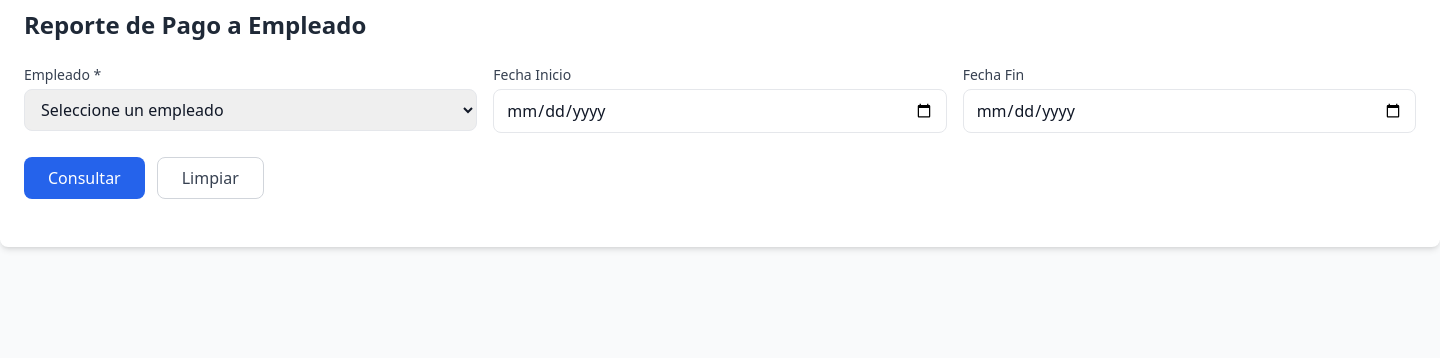
PagoEmpleadoReport › muestra error si no se selecciona empleado al consultar
# Hacer clic en consultar sin seleccionar empleado
What coordinates should you click on to do the following:
click the button "Consultar"
I would click on:
 (84, 178)
Its box is x1=24 y1=157 x2=145 y2=199.
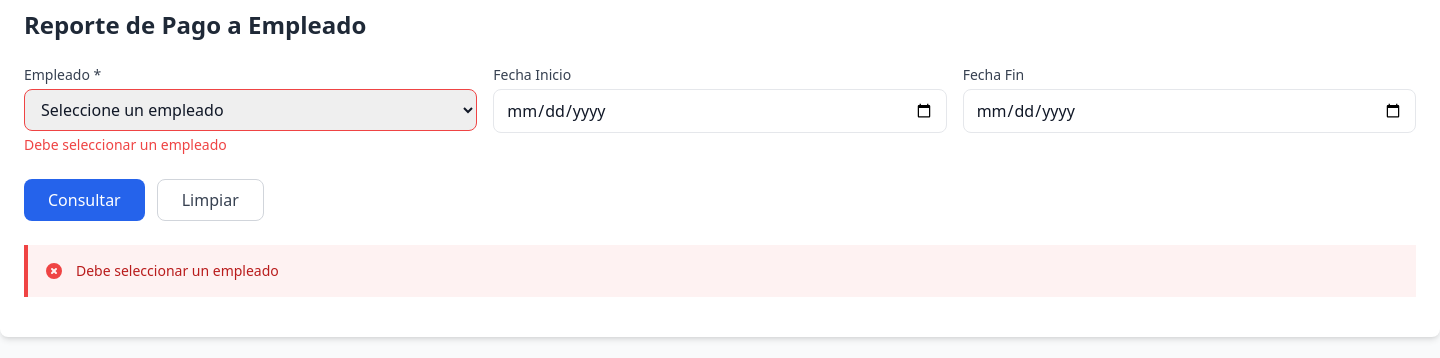
Now the text "Debe seleccionar un empleado" is shown, box x1=24 y1=135 x2=227 y2=154
